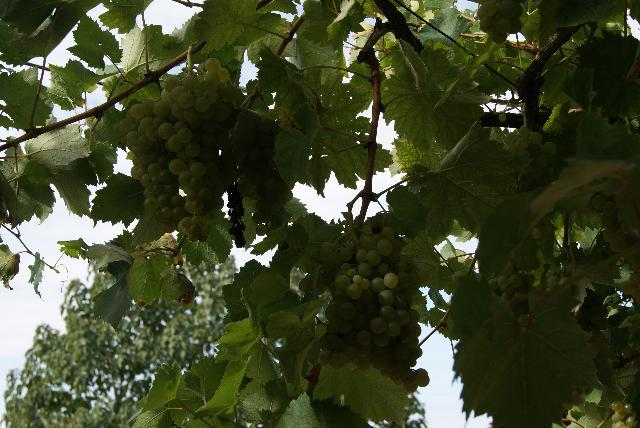grapes: (321, 228, 429, 390), (165, 59, 238, 241), (112, 99, 174, 226), (231, 109, 291, 231)
